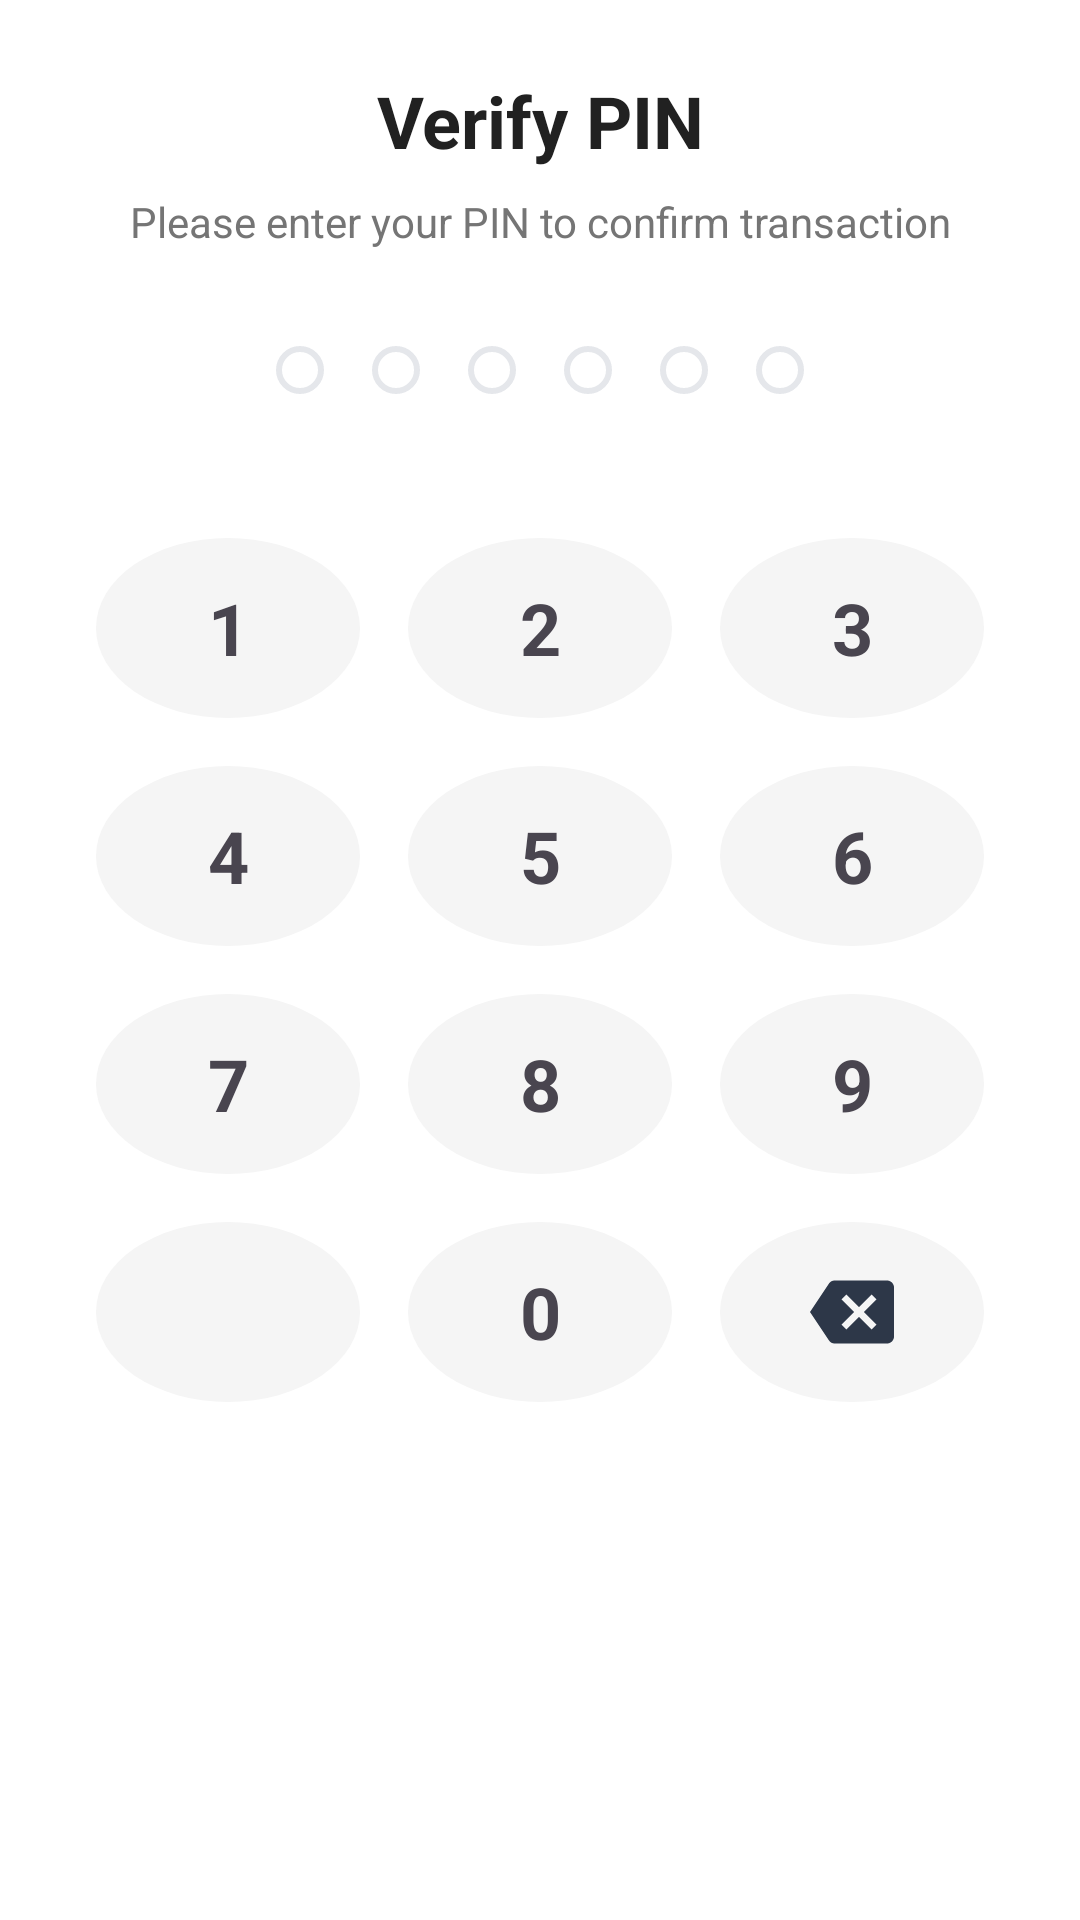

Point at icon controls on the screen. Image size 1080*1920, points as (x=x, y=y).
backspace: (x=852, y=1312)
pin dot empty: (x=300, y=370), (x=396, y=370), (x=492, y=370), (x=588, y=370), (x=684, y=370), (x=780, y=370)
